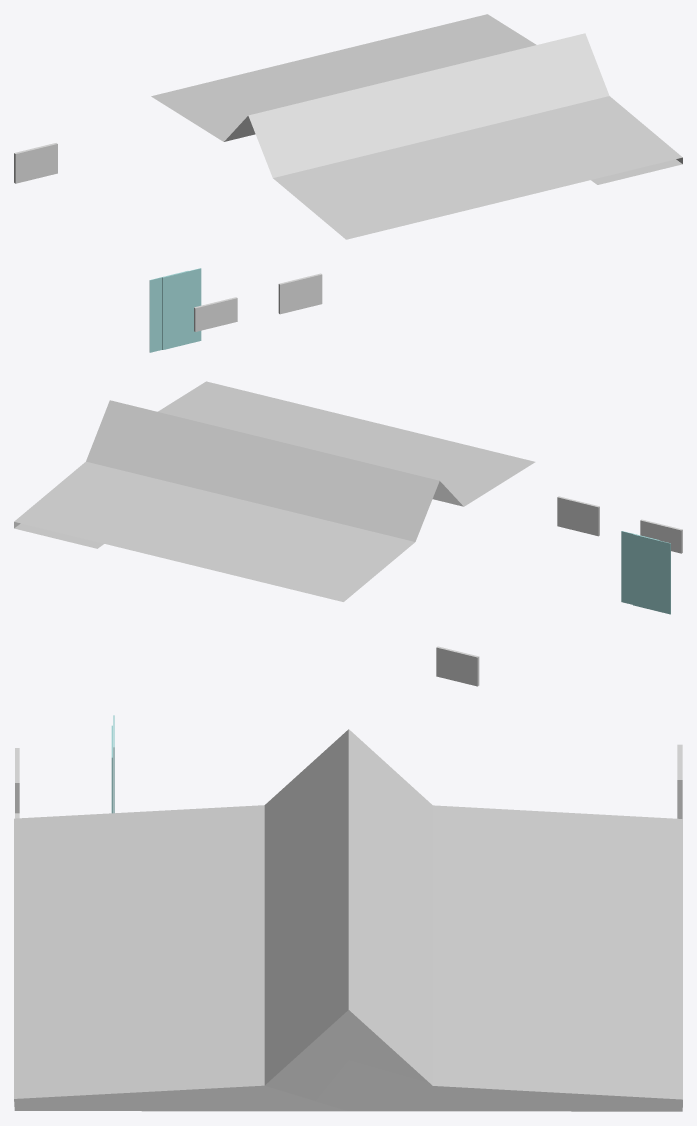
Rendered from Vidrios.fbx.
The picture shows the model from 3 angles, top to bottom: view 1: azimuth 30°, elevation 25°; view 2: azimuth 150°, elevation 25°; view 3: azimuth 270°, elevation 25°; orthographic projection. The views are drawn at different scales.
Parts seen in each view (by area): view 1: TechoCristal, PuertaBaño1, VentanaEstudio, VentanaTecho, VentanaBaño, PuertaBaño2; view 2: TechoCristal, PuertaBaño2, VentanaTecho, VentanaEstudio, PuertaBaño1, VentanaBaño; view 3: TechoCristal.
Boxes of the visible parts, bbox=[...] form: TechoCristal: bbox=[151, 14, 682, 239]; PuertaBaño1: bbox=[162, 268, 201, 349]; VentanaEstudio: bbox=[278, 273, 322, 314]; VentanaTecho: bbox=[14, 143, 57, 183]; VentanaBaño: bbox=[194, 297, 237, 331]; PuertaBaño2: bbox=[149, 271, 187, 352]; TechoCristal: bbox=[14, 381, 535, 601]; PuertaBaño2: bbox=[633, 534, 670, 614]; VentanaTecho: bbox=[436, 646, 479, 686]; VentanaEstudio: bbox=[557, 496, 599, 536]; PuertaBaño1: bbox=[621, 531, 658, 604]; VentanaBaño: bbox=[640, 519, 682, 553]; TechoCristal: bbox=[14, 729, 682, 1111].
Bounding box in the file's own units: 1787 × 495 × 1202.
